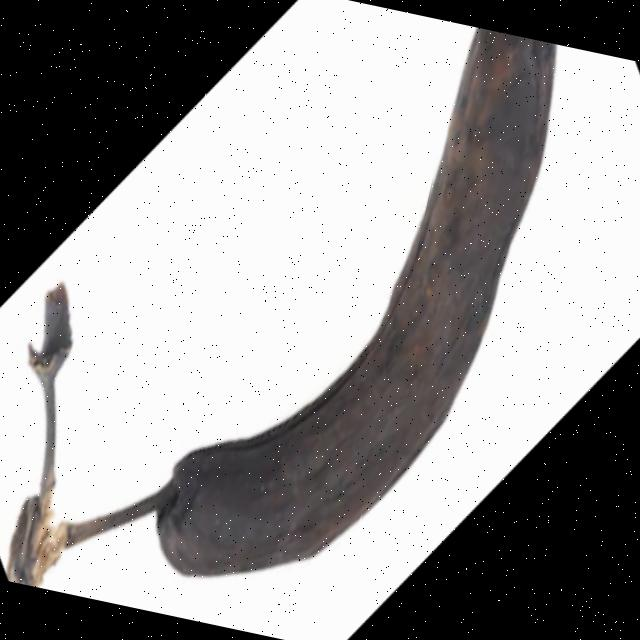Rotten: (52, 0, 565, 633)
